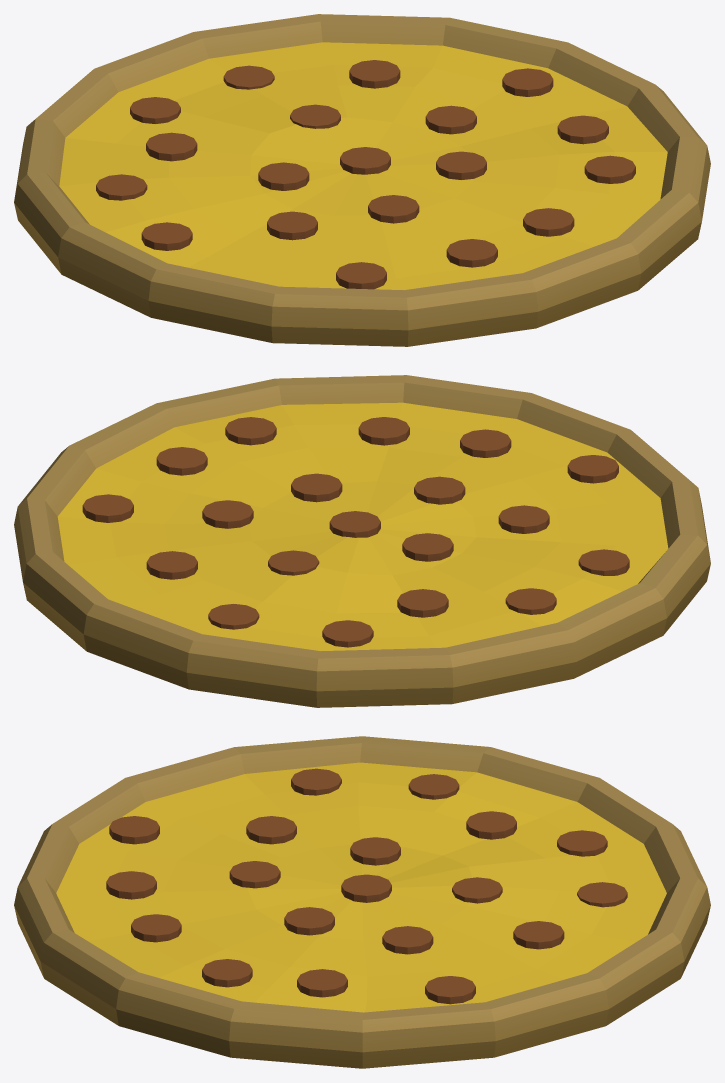
Rendered from pizza_1.fbx.
3 renders of one model, top to bottom at view 1: azimuth 30°, elevation 25°; view 2: azimuth 150°, elevation 25°; view 3: azimuth 270°, elevation 25°, orthographic.
Parts seen in each view (by area): view 1: pizza_1; view 2: pizza_1; view 3: pizza_1.
Boxes of the visible parts, x1,y1,x2,y2 form: pizza_1: [14, 14, 710, 346]; pizza_1: [14, 375, 710, 707]; pizza_1: [14, 736, 710, 1068].
Size of the model in its own units: 0.3946 by 0.0289 by 0.3946.
